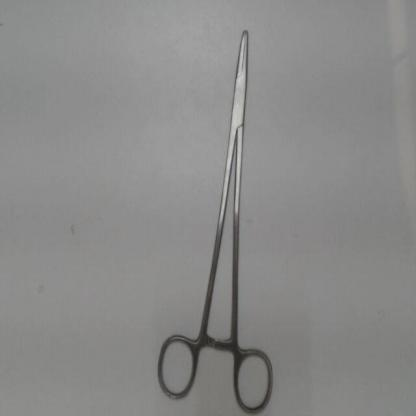8 Mayo Needle Holder: (146, 11, 280, 415)
